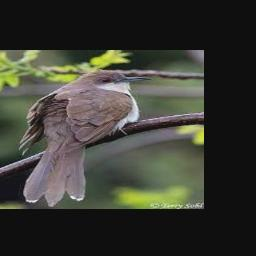Cuckoo: (18, 69, 150, 205)
